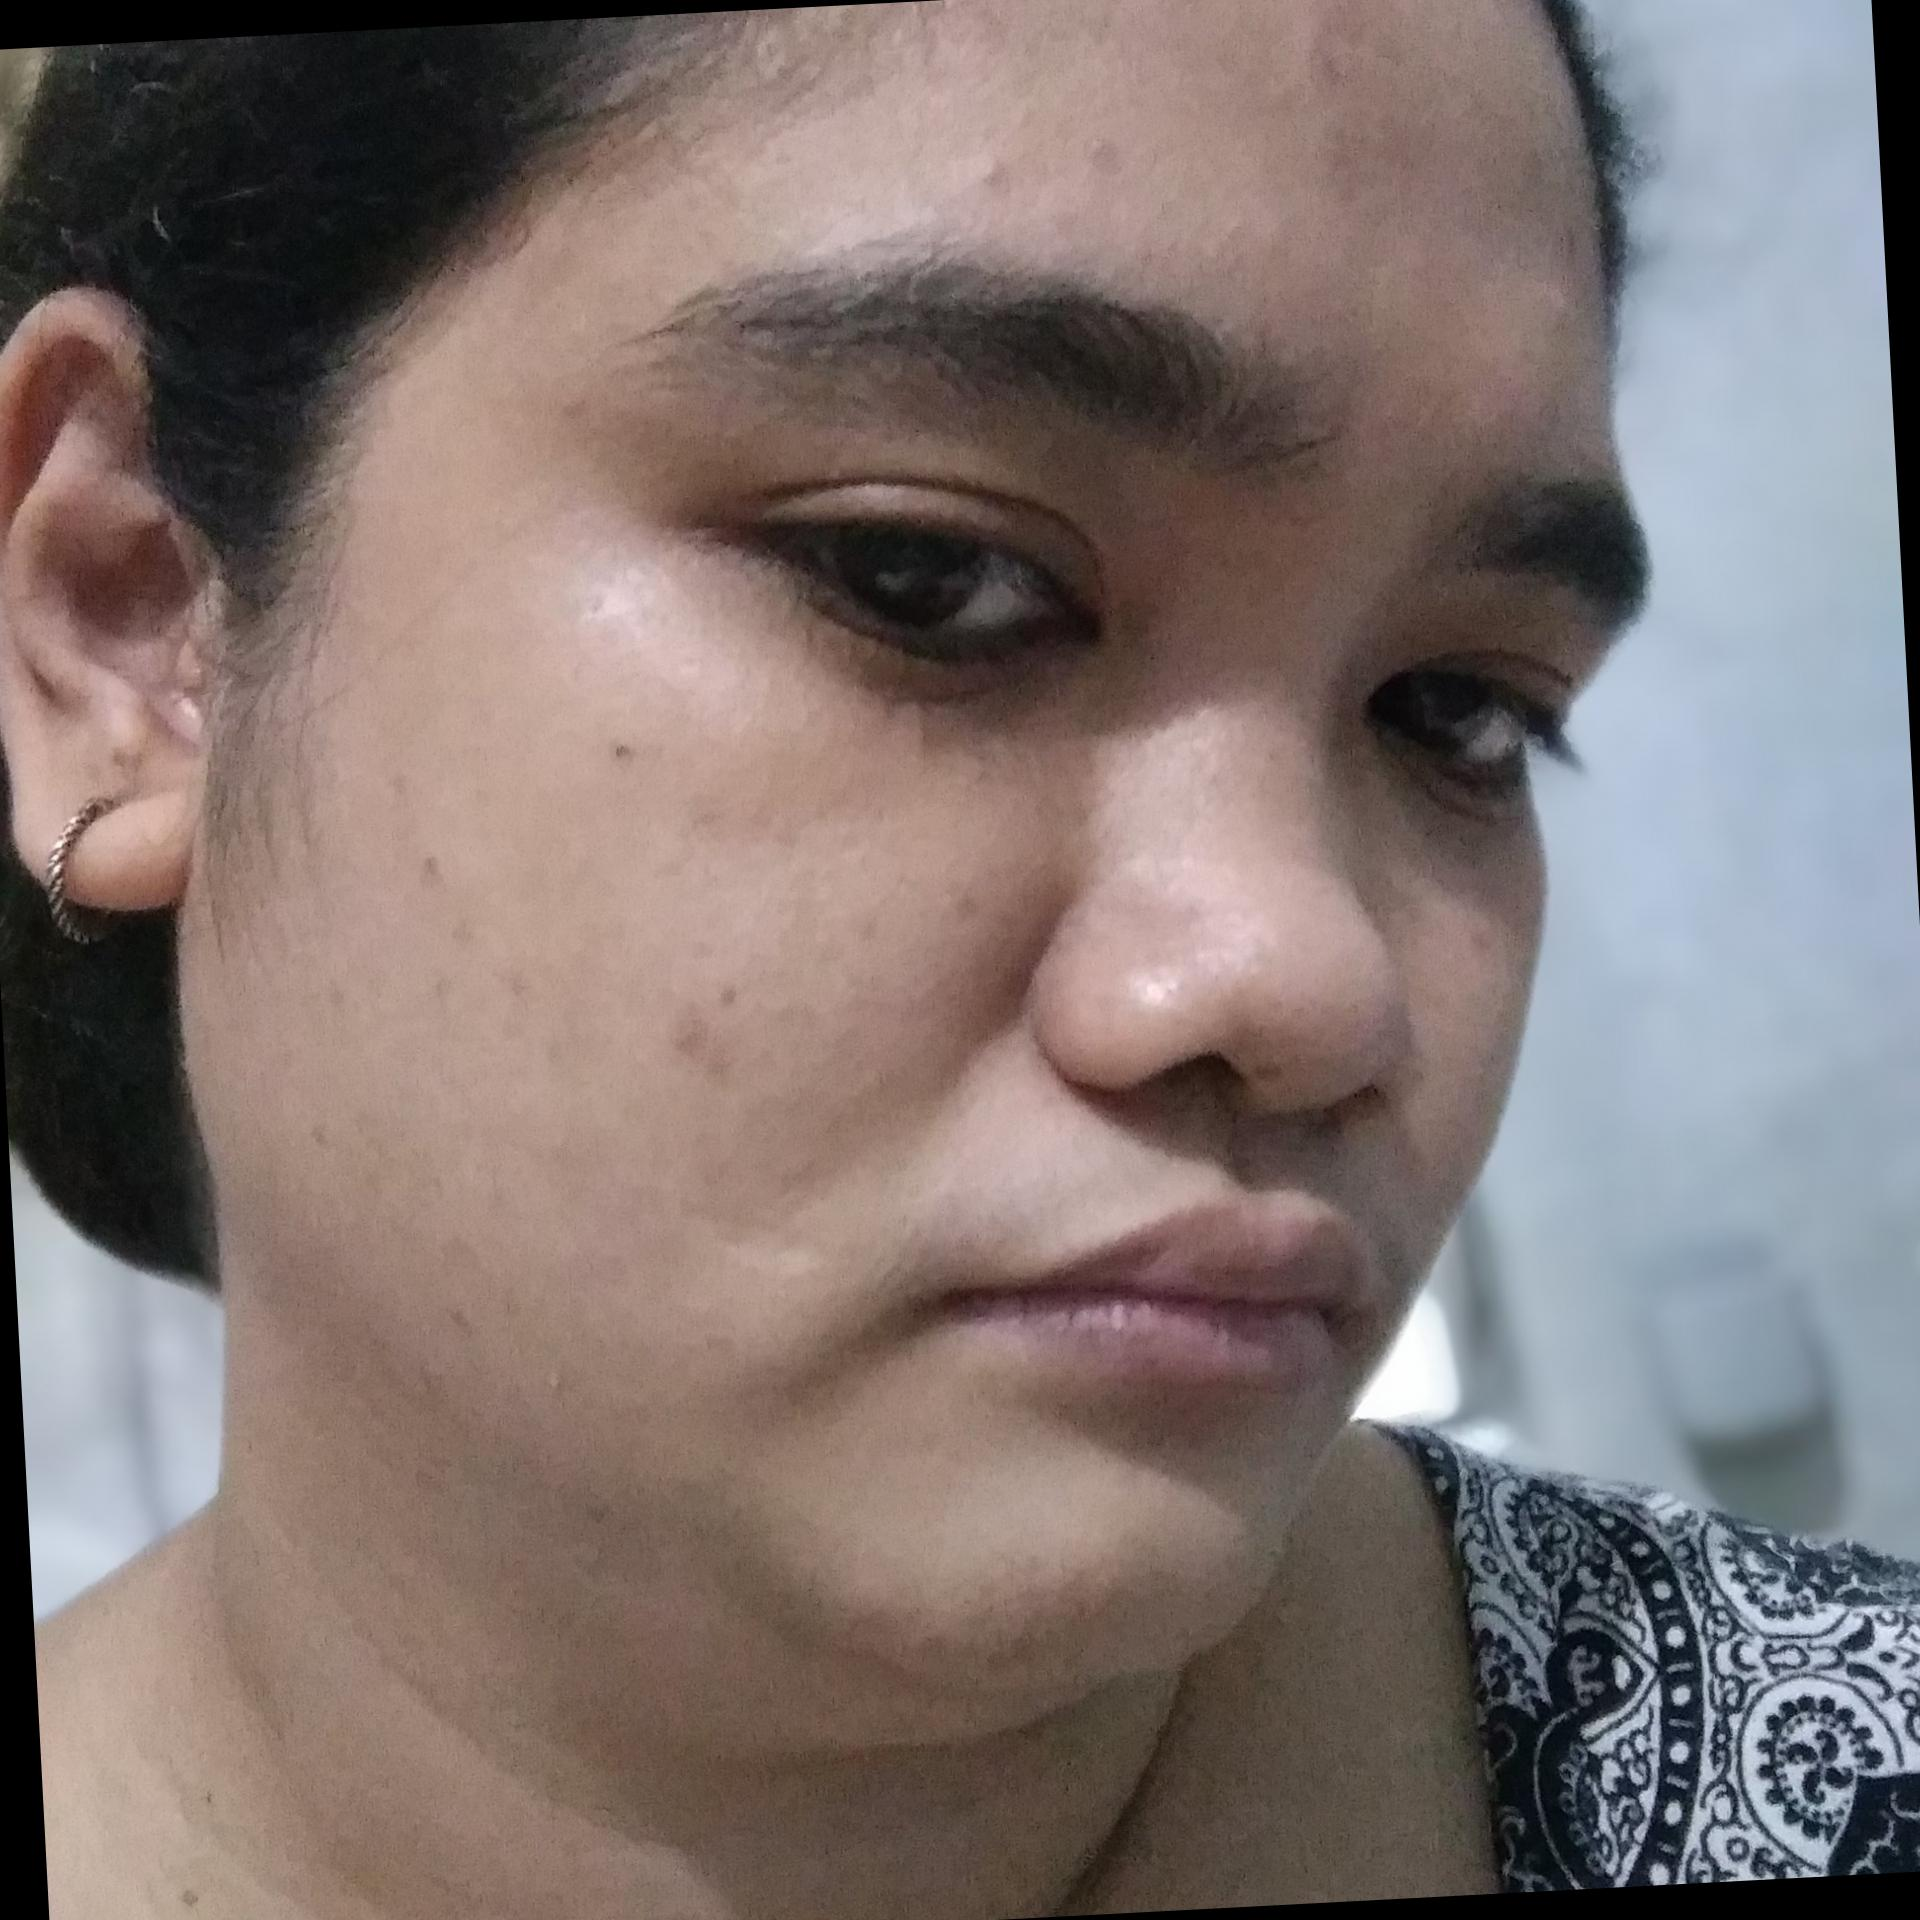Acne: (656, 999, 758, 1092), (489, 944, 552, 1039), (1324, 118, 1387, 200), (1301, 18, 1361, 97), (1060, 121, 1125, 186), (401, 839, 471, 898), (429, 913, 499, 971), (944, 874, 999, 946), (965, 148, 1036, 202), (830, 909, 886, 964), (369, 758, 418, 819), (524, 1366, 584, 1414), (1553, 206, 1595, 267), (429, 1303, 485, 1343), (607, 733, 645, 772)
Dark Circles: (740, 651, 1116, 753), (1380, 805, 1514, 872)
Wrinkles: (911, 1013, 1022, 1139)
